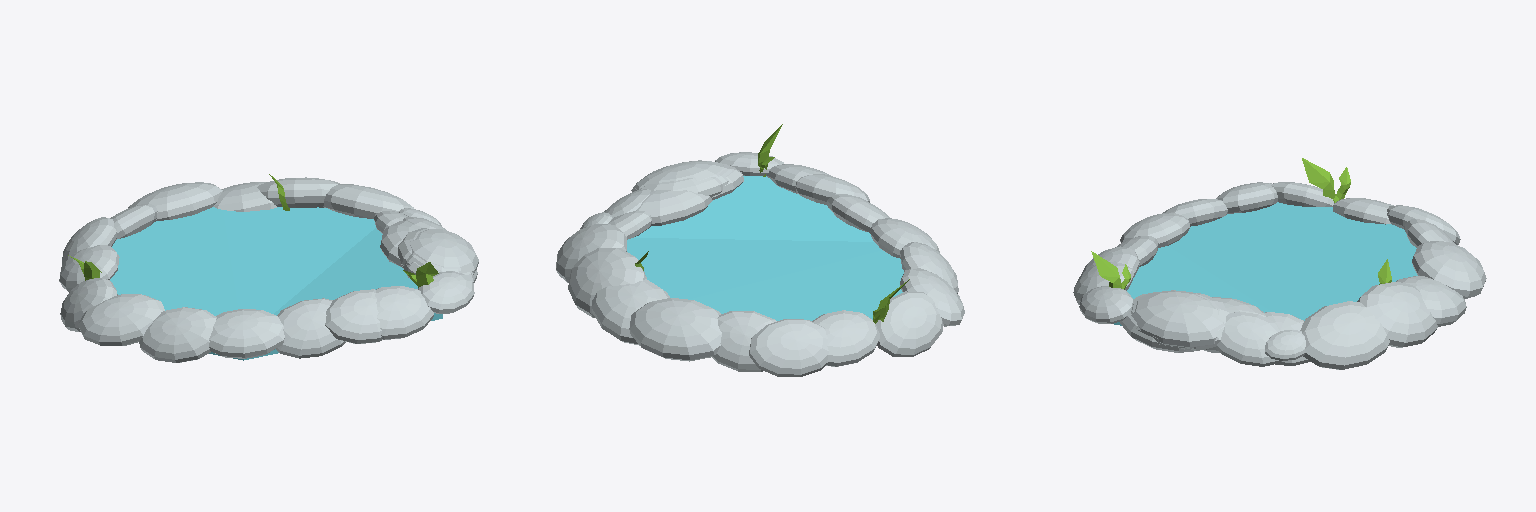
3 renders of one model, left to right at view 1: azimuth 30°, elevation 25°; view 2: azimuth 150°, elevation 25°; view 3: azimuth 270°, elevation 25°, orthographic.
Visible parts, largest first — view 1: group[number redacted], group[number redacted], group[number redacted], group[number redacted], group[number redacted], group[number redacted], group[number redacted], group[number redacted], group[number redacted], group[number redacted], group[number redacted], group[number redacted] (+6 smaller); view 2: group[number redacted], group[number redacted], group[number redacted], group[number redacted], group[number redacted], group[number redacted], group[number redacted], group[number redacted], group[number redacted], group[number redacted], group[number redacted], group[number redacted] (+9 smaller); view 3: group[number redacted], group[number redacted], group[number redacted], group[number redacted], group[number redacted], group[number redacted], group[number redacted], group[number redacted], group[number redacted], group[number redacted], group[number redacted], group[number redacted] (+10 smaller).
Part boxes in pixels (left/top/right/bottom): group[number redacted]: left=110, top=207, right=442, bottom=360; group[number redacted]: left=139, top=307, right=216, bottom=362; group[number redacted]: left=78, top=294, right=164, bottom=345; group[number redacted]: left=209, top=309, right=284, bottom=358; group[number redacted]: left=276, top=298, right=345, bottom=358; group[number redacted]: left=325, top=289, right=382, bottom=343; group[number redacted]: left=375, top=286, right=433, bottom=339; group[number redacted]: left=128, top=182, right=222, bottom=221; group[number redacted]: left=409, top=229, right=478, bottom=273; group[number redacted]: left=323, top=184, right=413, bottom=218; group[number redacted]: left=418, top=271, right=474, bottom=313; group[number redacted]: left=257, top=177, right=339, bottom=207; group[number redacted]: left=627, top=176, right=903, bottom=320; group[number redacted]: left=629, top=298, right=721, bottom=361; group[number redacted]: left=749, top=319, right=828, bottom=376; group[number redacted]: left=876, top=291, right=943, bottom=356; group[number redacted]: left=568, top=248, right=646, bottom=317; group[number redacted]: left=812, top=310, right=879, bottom=366; group[number redacted]: left=592, top=279, right=669, bottom=345; group[number redacted]: left=712, top=311, right=776, bottom=371; group[number redacted]: left=556, top=224, right=626, bottom=282; group[number redacted]: left=637, top=190, right=712, bottom=225; group[number redacted]: left=900, top=268, right=964, bottom=326; group[number redacted]: left=870, top=218, right=939, bottom=258; group[number redacted]: left=1114, top=202, right=1417, bottom=325; group[number redacted]: left=1300, top=301, right=1389, bottom=369; group[number redacted]: left=1131, top=290, right=1224, bottom=348; group[number redacted]: left=1357, top=282, right=1437, bottom=347; group[number redacted]: left=1412, top=241, right=1486, bottom=298; group[number redacted]: left=1216, top=311, right=1281, bottom=366; group[number redacted]: left=1396, top=276, right=1466, bottom=326; group[number redacted]: left=1079, top=286, right=1132, bottom=323; group[number redacted]: left=1120, top=213, right=1189, bottom=247; group[number redacted]: left=1216, top=182, right=1277, bottom=213; group[number redacted]: left=1333, top=198, right=1393, bottom=224; group[number redacted]: left=1271, top=182, right=1333, bottom=206.
Bounding box in the file's own units: 0.3016 × 0.0696 × 0.2945.